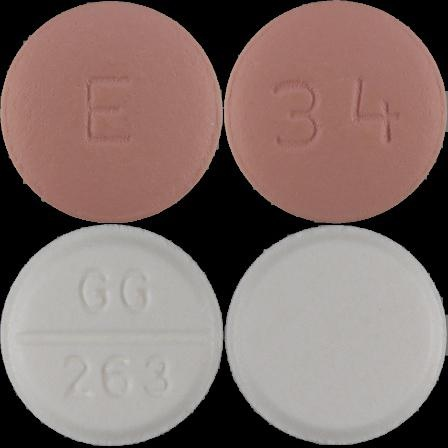64205-357: (0, 0, 224, 224)
